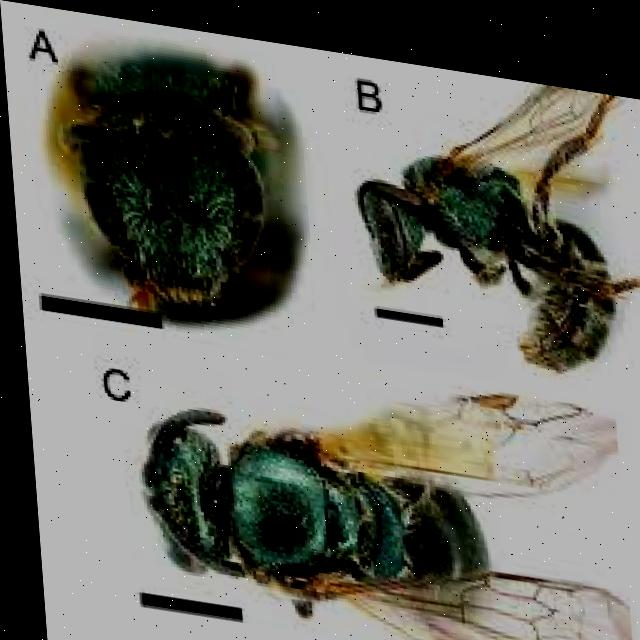Lasioglossum: (107, 330, 640, 640), (330, 47, 640, 374), (46, 23, 303, 314)
